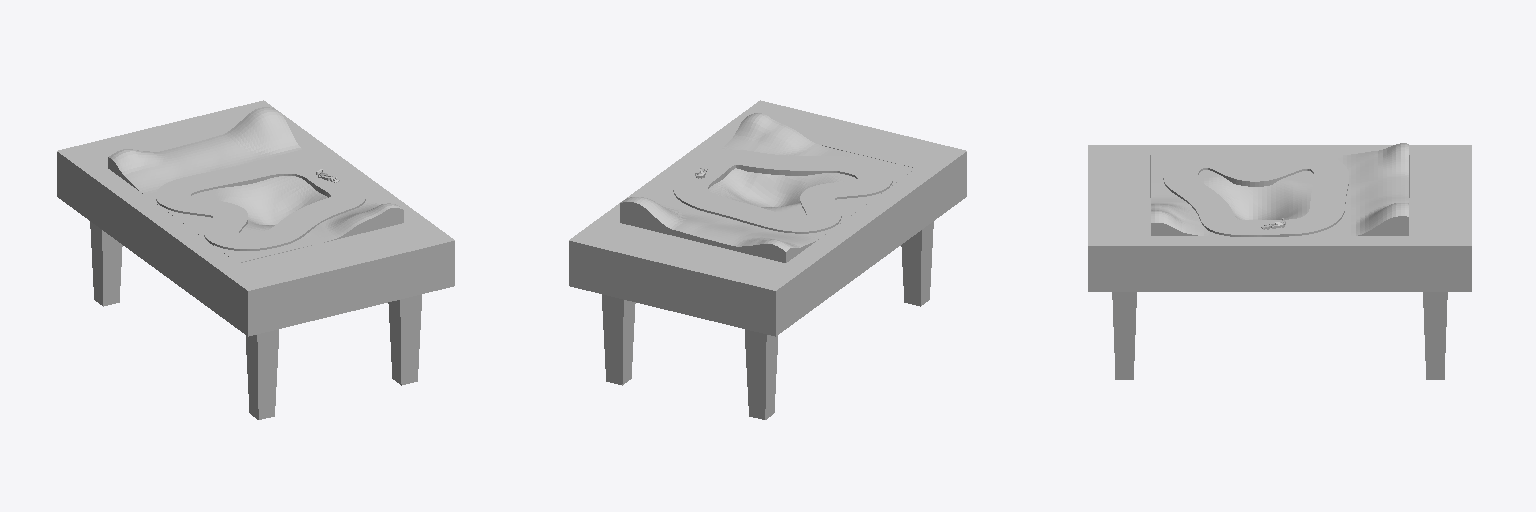
Rendered from NewestTisch23.obj.
The picture shows the model from 3 angles: view 1: azimuth 30°, elevation 25°; view 2: azimuth 150°, elevation 25°; view 3: azimuth 270°, elevation 25°; orthographic projection.
Visible parts, largest first — view 1: Tischplatte_wood_table_001, Landschaft_aerial_grass_rock, off, Bein1_wood_table_001, Bein4_wood_table_001.003, Bein3_wood_table_001.002; view 2: Tischplatte_wood_table_001, Landschaft_aerial_grass_rock, off, Bein2_wood_table_001.001, Bein3_wood_table_001.002, Bein4_wood_table_001.003; view 3: Tischplatte_wood_table_001, Landschaft_aerial_grass_rock, off, Bein1_wood_table_001, Bein2_wood_table_001.001.
Part boxes in pixels (x1,y1,x2,y2): Tischplatte_wood_table_001: (57,100,454,336); Landschaft_aerial_grass_rock: (108,107,403,262); off: (156,159,365,250); Bein1_wood_table_001: (388,294,421,385); Bein4_wood_table_001.003: (246,329,278,419); Bein3_wood_table_001.002: (90,221,122,306); Tischplatte_wood_table_001: (569,100,966,336); Landschaft_aerial_grass_rock: (620,113,915,262); off: (673,150,892,233); Bein2_wood_table_001.001: (602,294,635,385); Bein3_wood_table_001.002: (745,329,777,419); Bein4_wood_table_001.003: (901,221,933,306); Tischplatte_wood_table_001: (1088,145,1471,291); Landschaft_aerial_grass_rock: (1151,143,1408,235); off: (1163,153,1348,236); Bein1_wood_table_001: (1112,292,1136,379); Bein2_wood_table_001.001: (1423,292,1447,379).
Bounding box in the file's own units: 5 × 3.91 × 8.